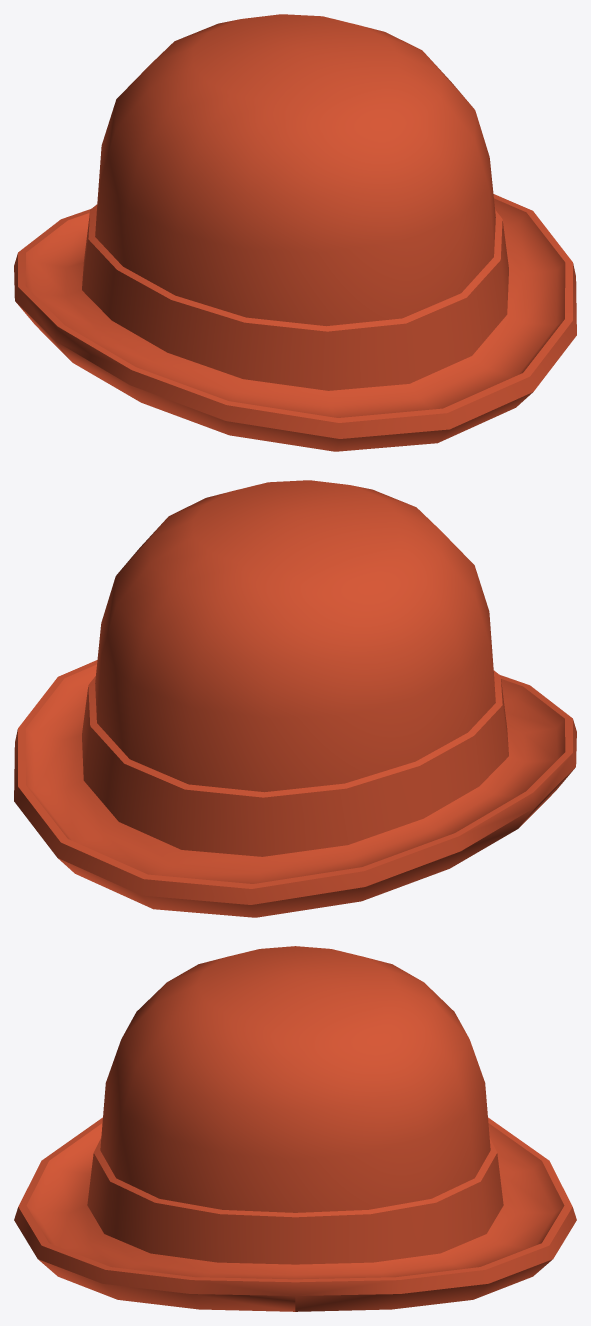
Rendered from uploads_files_1849038_hat.fbx.
3 views of the same model, one above another, from view 1: azimuth 30°, elevation 25°; view 2: azimuth 150°, elevation 25°; view 3: azimuth 270°, elevation 25° (orthographic). The views are drawn at different scales.
Visible parts, largest first — view 1: Piece000; view 2: Piece000; view 3: Piece000.
Boxes of the visible parts, x1,y1,x2,y2 form: Piece000: [14, 14, 576, 451]; Piece000: [14, 480, 576, 917]; Piece000: [14, 946, 576, 1311].
Size of the model in its own units: 367 by 215 by 408.
